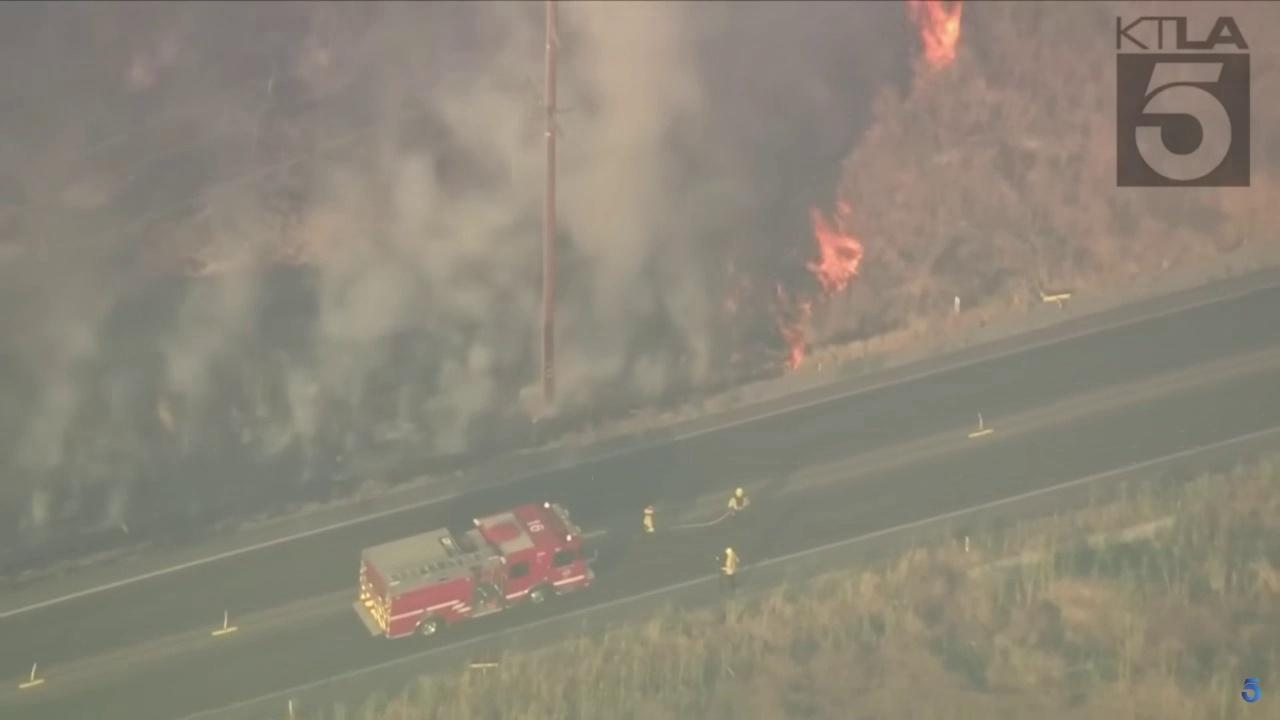fire: (804, 193, 866, 297), (905, 0, 967, 75), (776, 300, 815, 372)
smoke: (0, 0, 929, 544)
